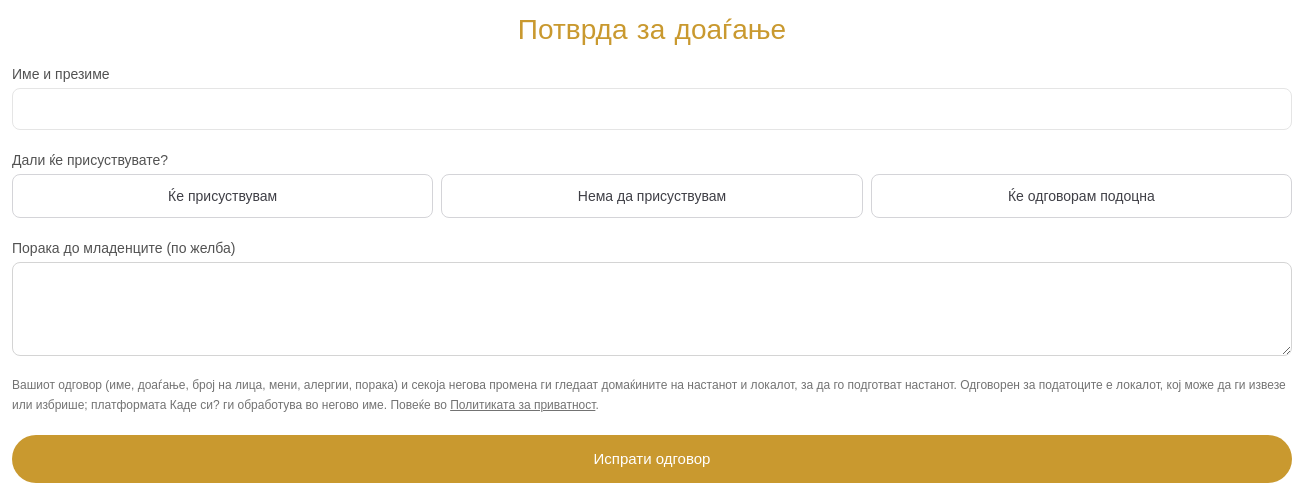
Test: RsvpForm (A2-A5, A18) › lets the guest answer later
Type "Ана" into the field labelled "Име и презиме".
click(652, 109); type("Ана")  # box [12,88,1292,130]
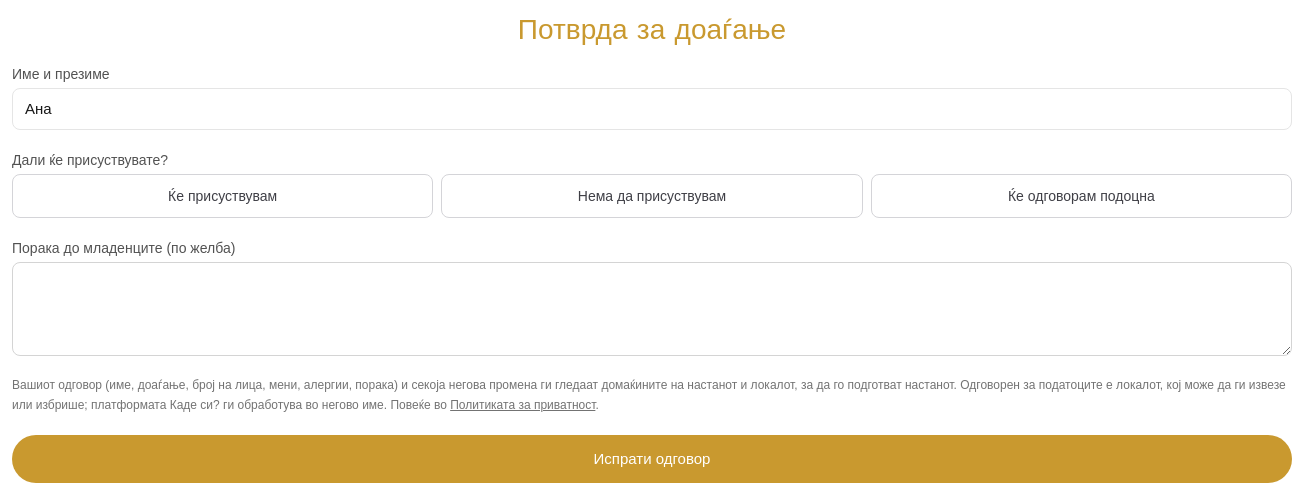
Click the button "Ќе одговорам подоцна".
click(1081, 196)  # box [871,174,1292,218]
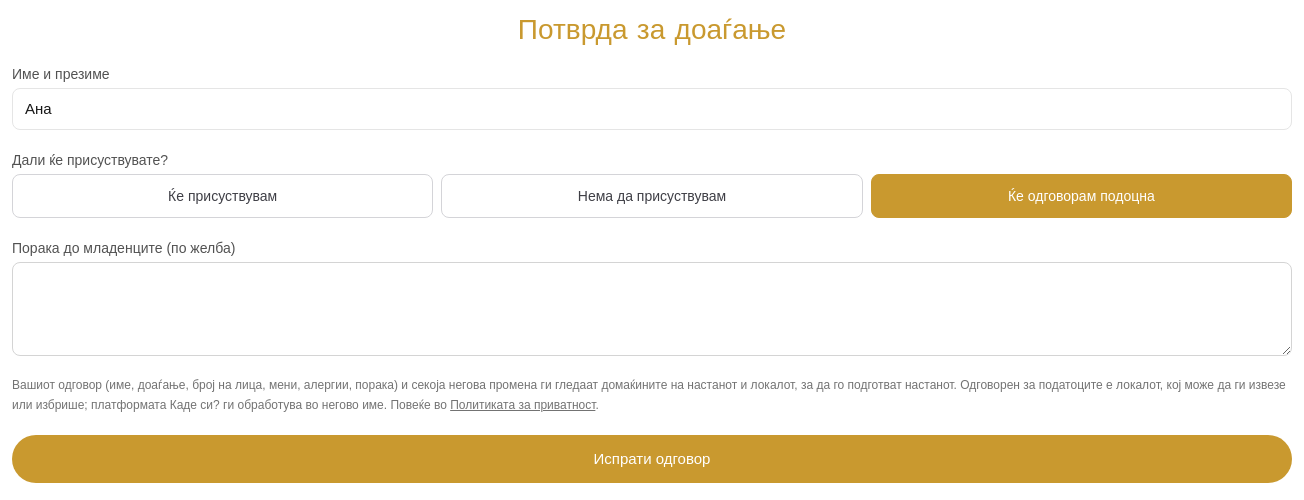
Click the button "Испрати одговор".
click(652, 459)  # box [12,435,1292,483]
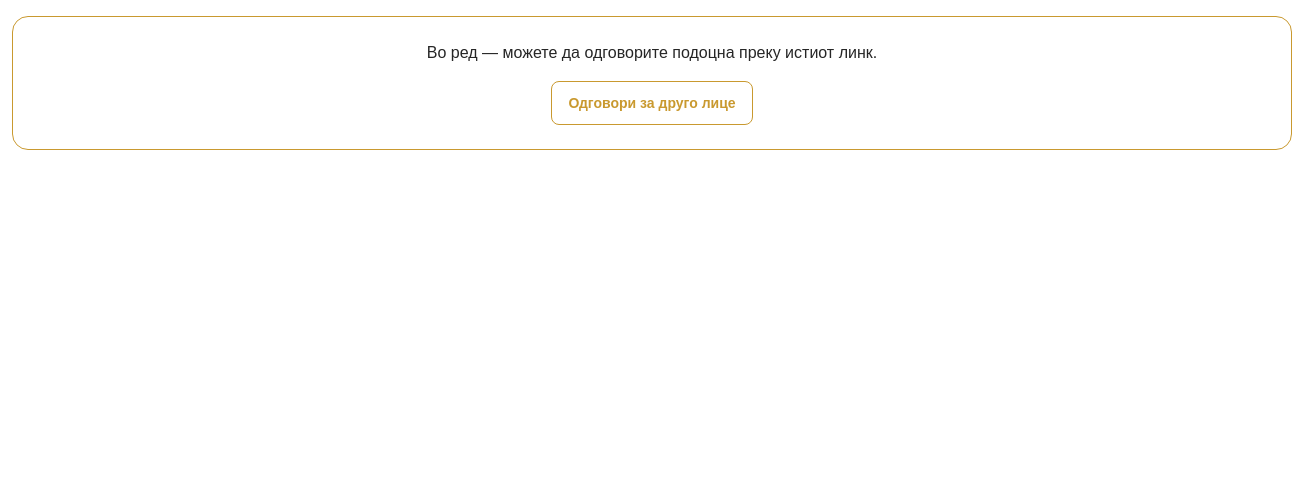
Result: the text "Во ред — можете да одговорите подоцна преку истиот линк." is shown at [427,44,877,61]
